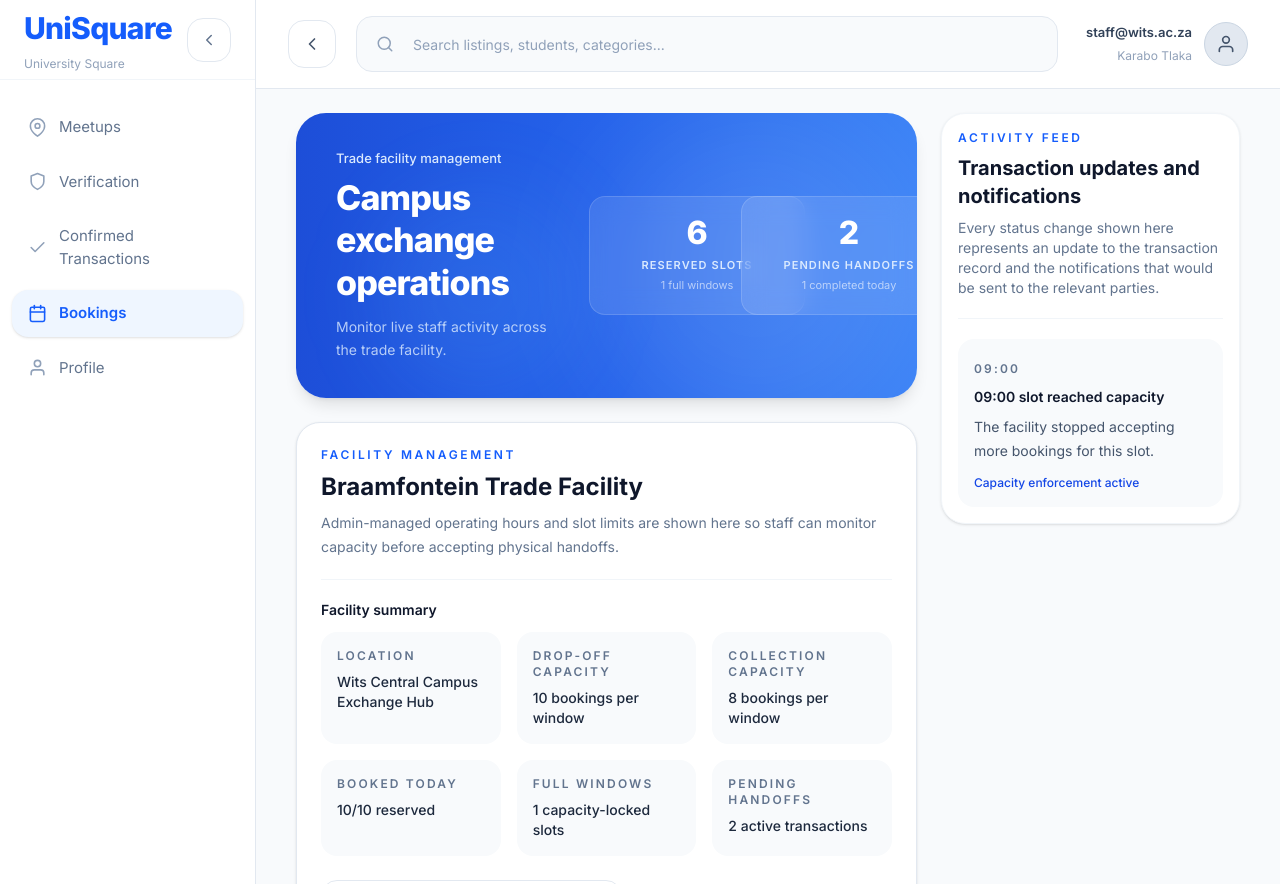
Test case: StaffDashboard › lets staff collapse and expand the sidebar
The image size is (1280, 884).
Step 1. Click the button named "collapse sidebar" next to "UniSquare" → (209, 40), box [187,18,231,62]
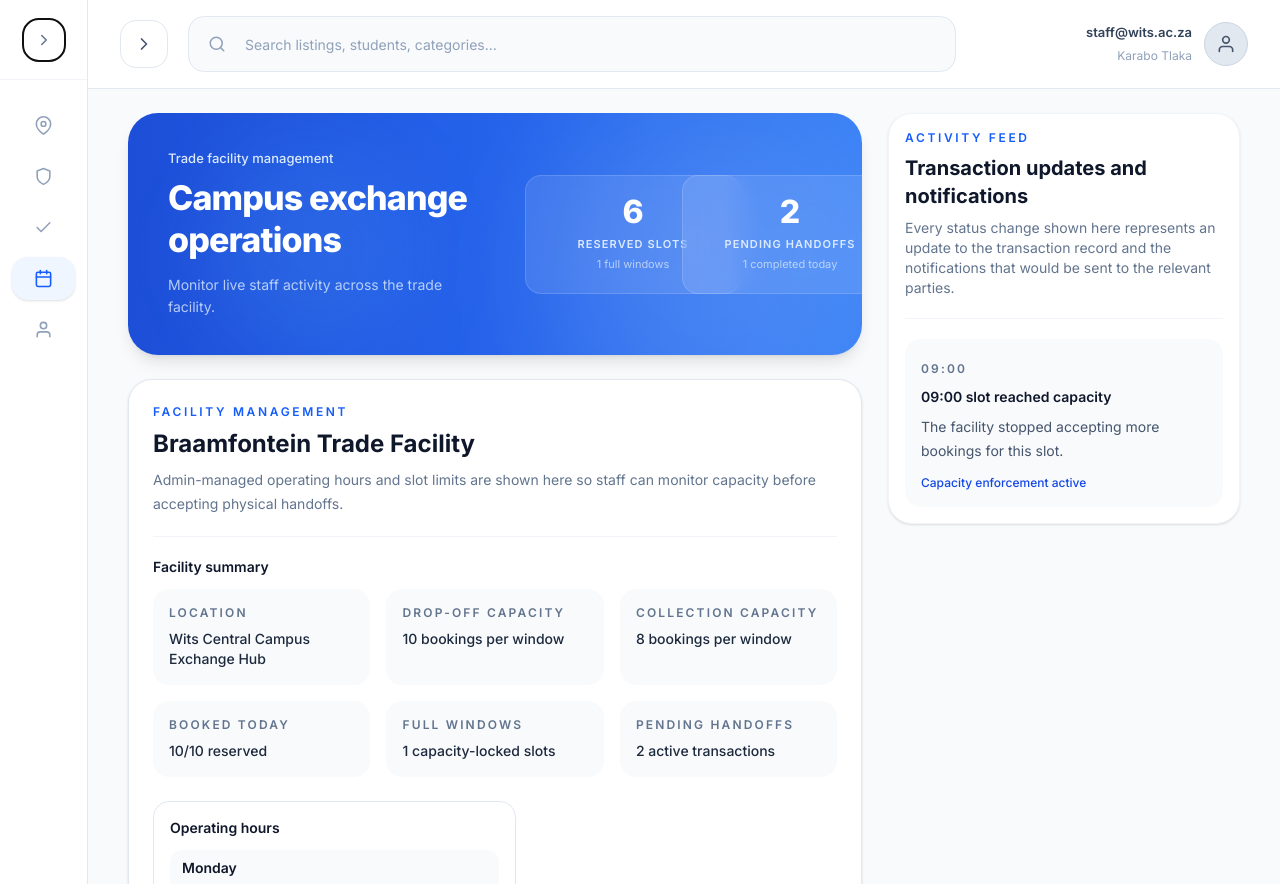
Expected: the 1st button named "expand sidebar" is shown
Step 2. Click the 1st button named "expand sidebar" → (44, 40), box [22,18,66,62]
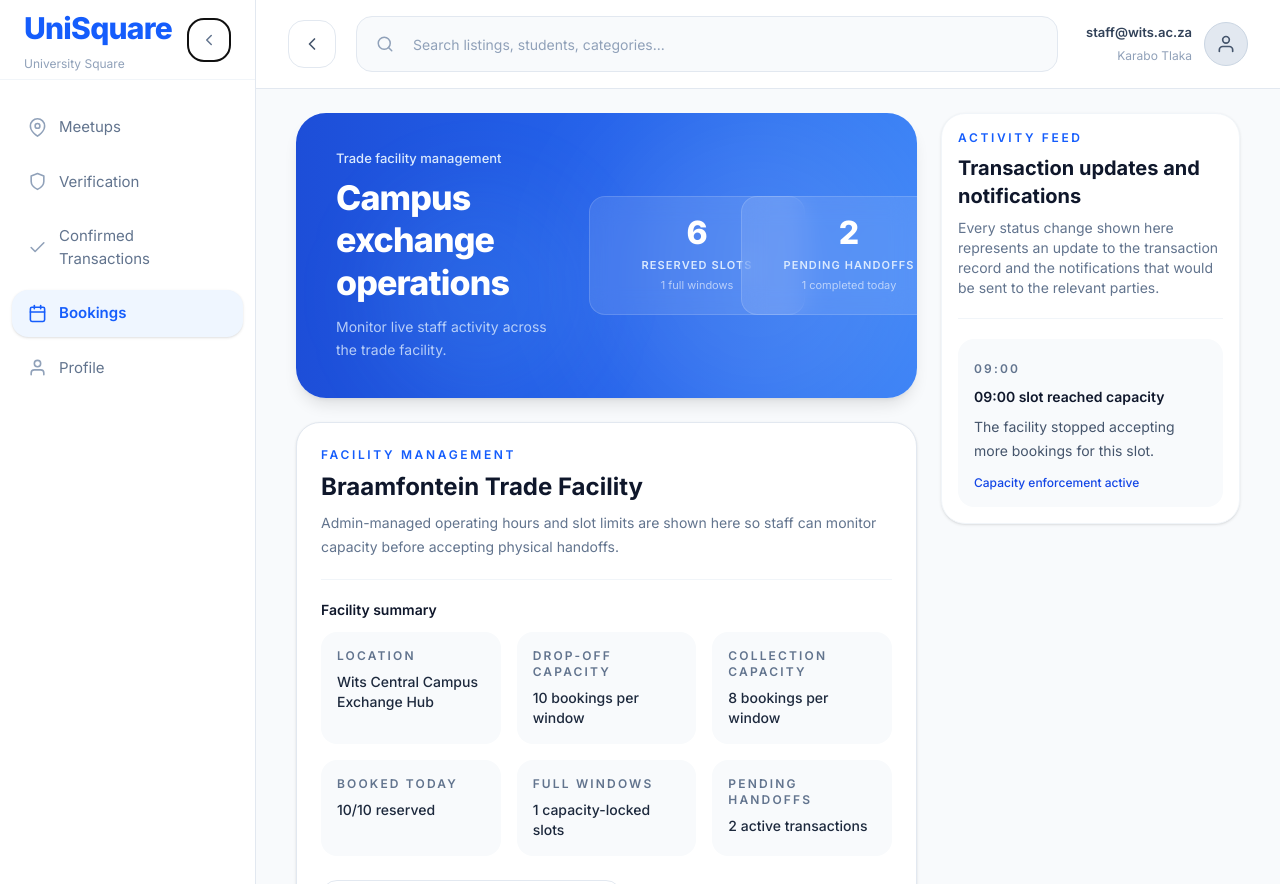
Expected: the button named "collapse sidebar" next to "UniSquare" is shown, [187,18,231,62]
